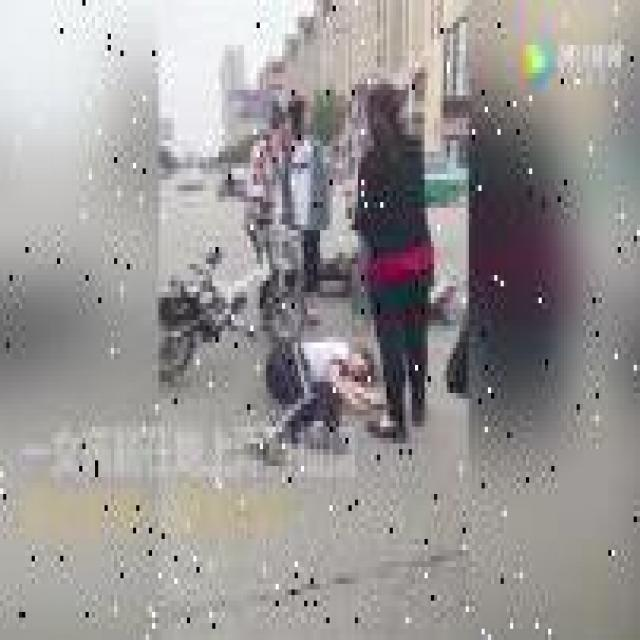fall: (247, 331, 374, 466)
